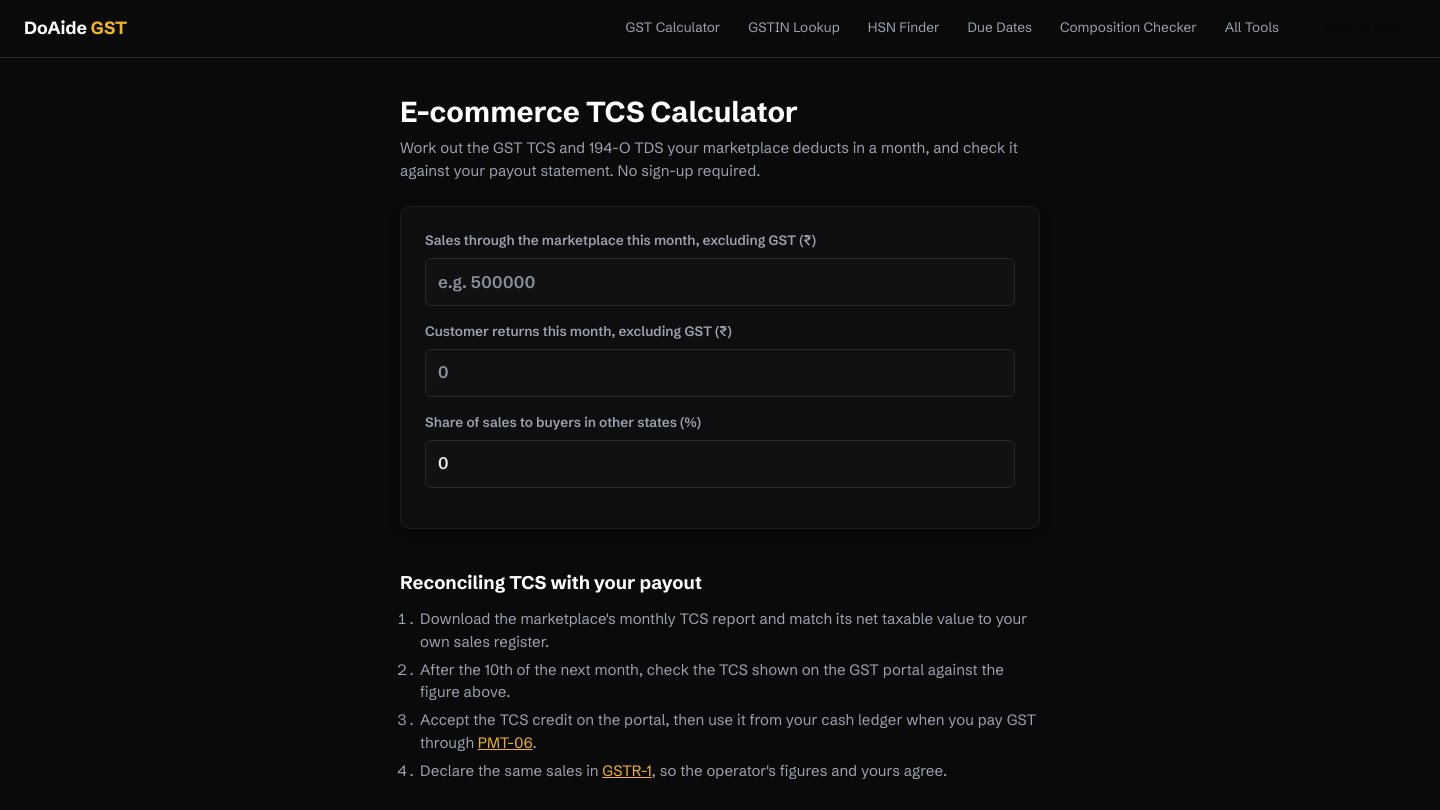
EcommerceTcsCalculatorPage › flags a negative amount instead of computing
Type "-5" into the number field labelled "Sales through the marketplace this month, excluding GST (₹)".
click(720, 282); type("-5")  # box [425,258,1015,306]
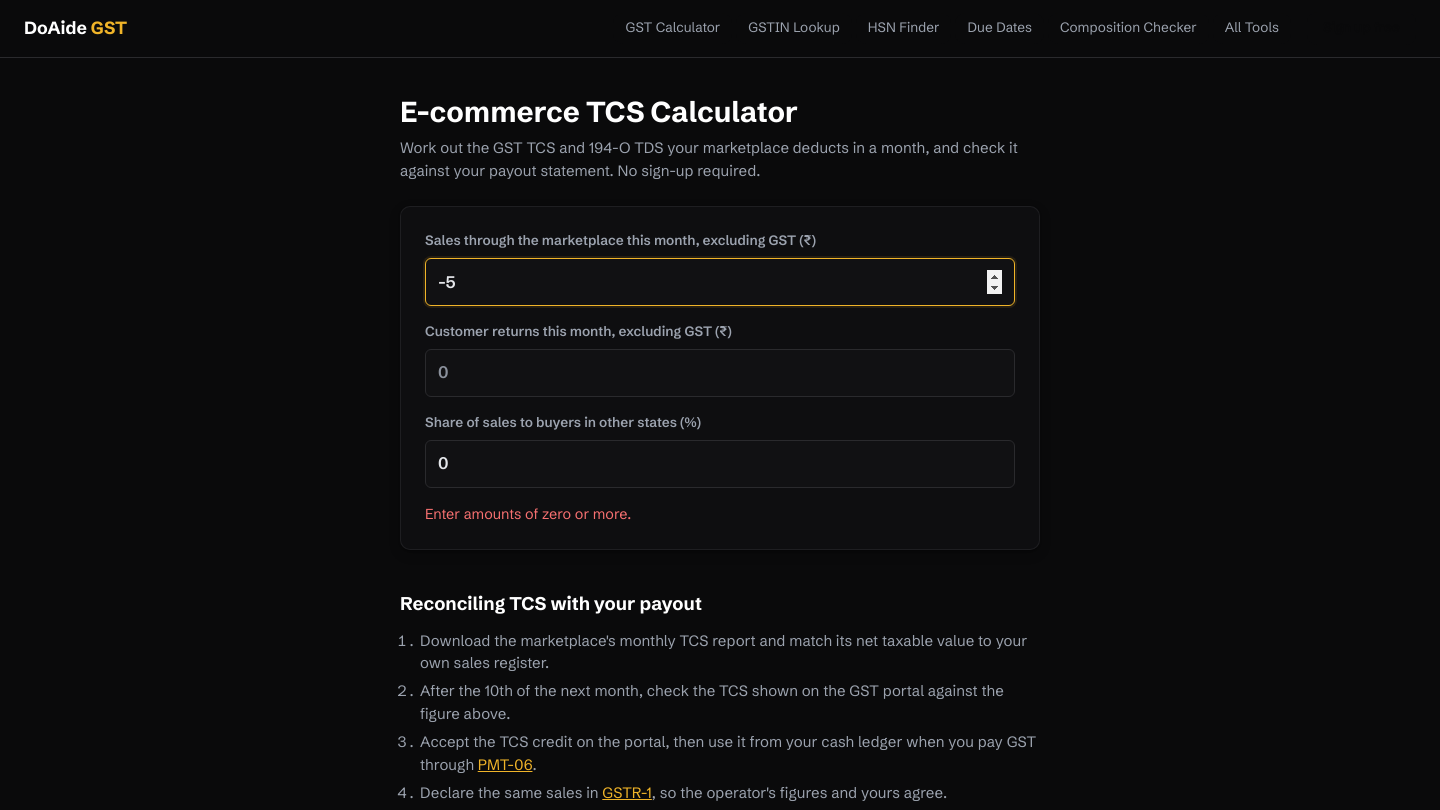
Expected: the message shows "zero or more", [425,505,631,523]
